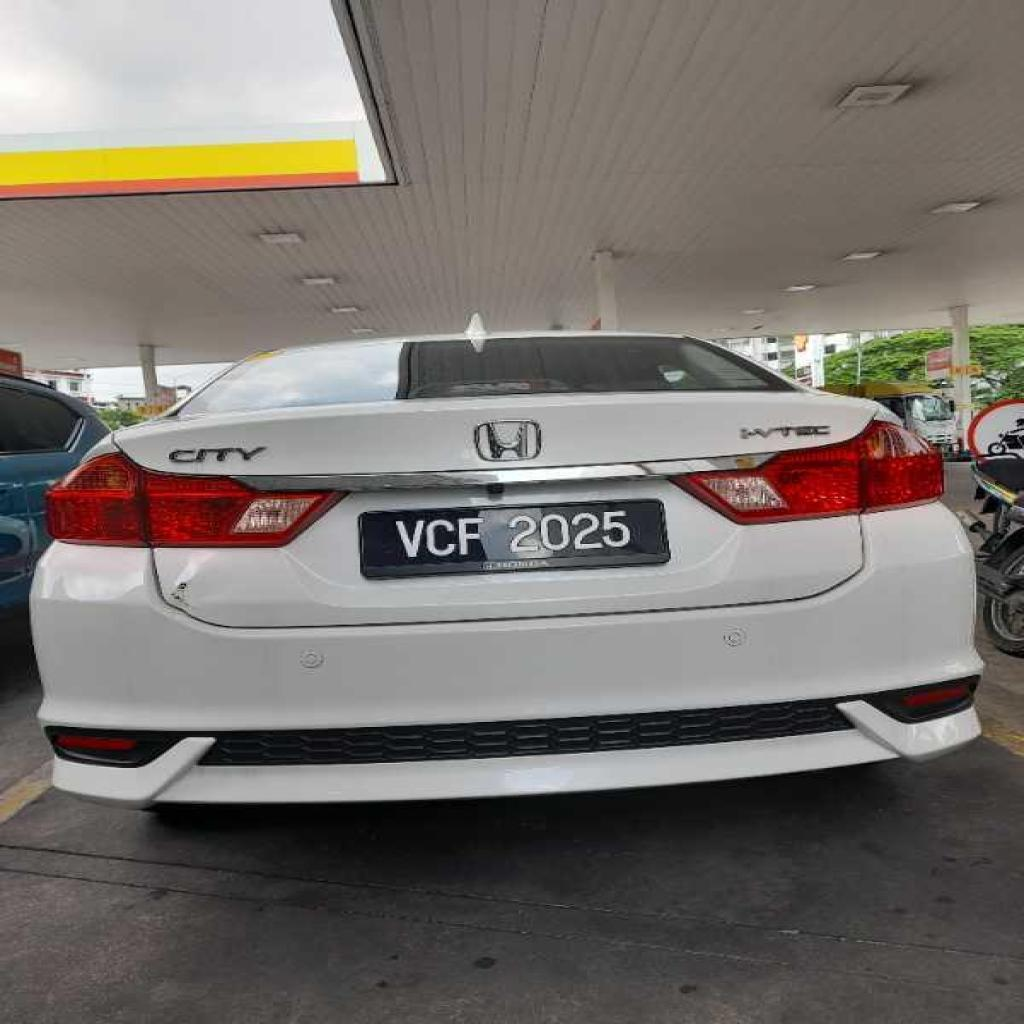car: (32, 332, 980, 804)
car plate: (360, 500, 667, 577)
